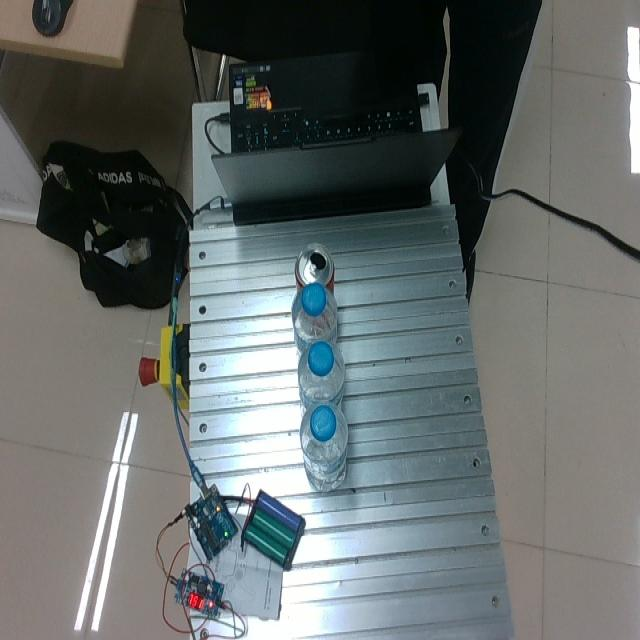coca: (294, 242, 336, 294)
lavie: (299, 400, 349, 491), (297, 340, 346, 408), (291, 284, 339, 353)
